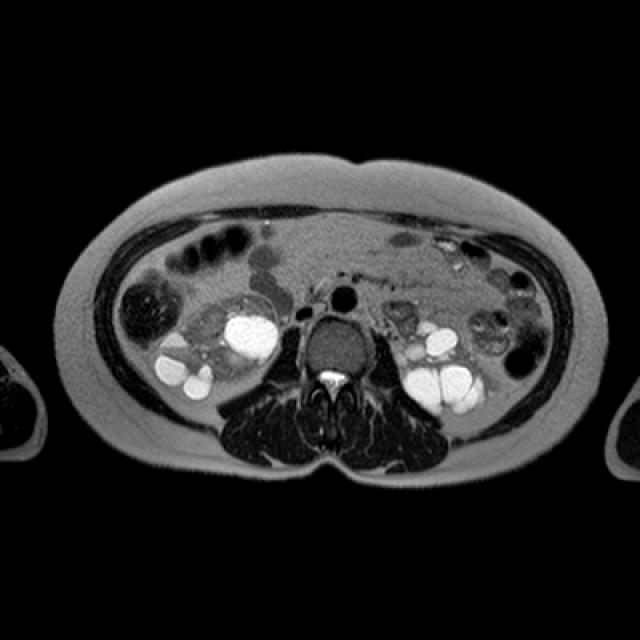sag: (147, 295, 285, 403)
sol: (393, 319, 501, 416)
